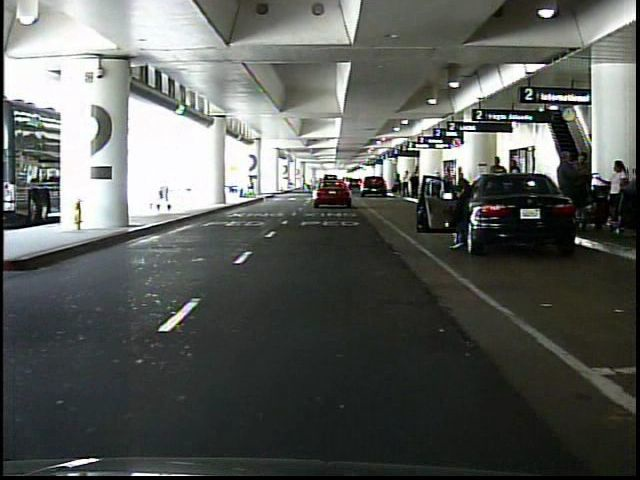person: (553, 147, 580, 227), (604, 160, 627, 229), (488, 154, 508, 217), (508, 157, 525, 215), (402, 169, 412, 199), (411, 171, 420, 199), (395, 175, 403, 197), (300, 175, 309, 192), (581, 148, 582, 230)
